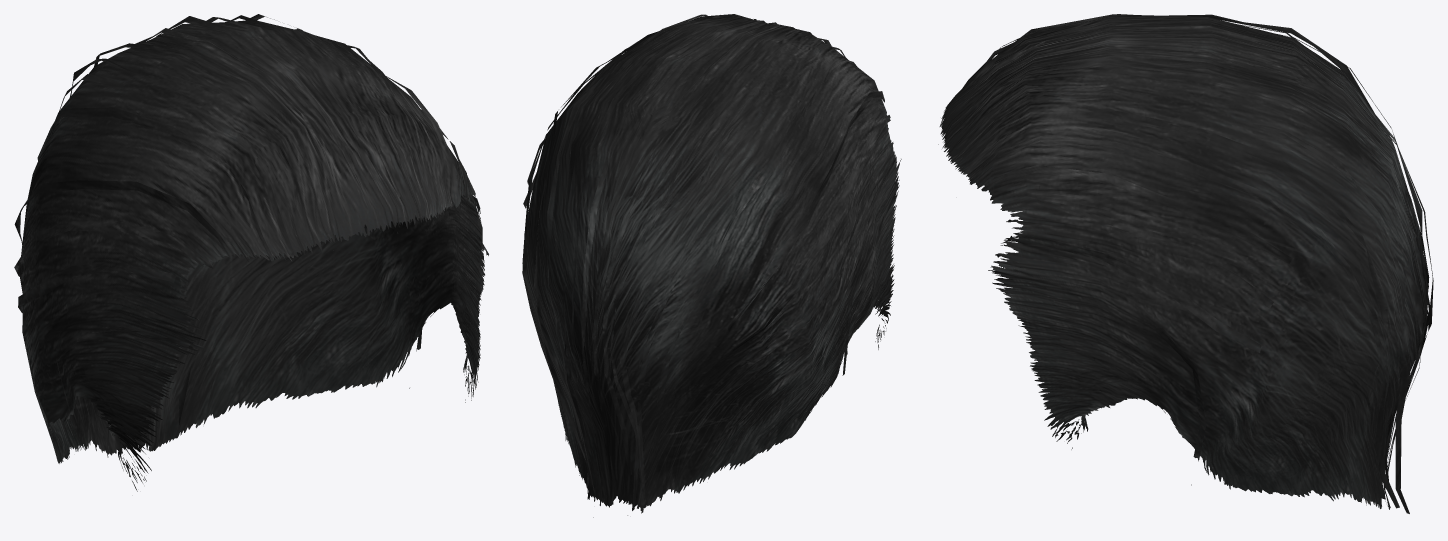
The model's file is makehuman-hair.glb.
The picture shows the model from 3 angles, left to right: view 1: azimuth 30°, elevation 25°; view 2: azimuth 150°, elevation 25°; view 3: azimuth 270°, elevation 25°; orthographic projection. The views are drawn at different scales.
Visible parts, largest first — view 1: Hair_short04; view 2: Hair_short04; view 3: Hair_short04.
Boxes of the visible parts, <box> form: Hair_short04: <box>14,14,488,491</box>; Hair_short04: <box>522,14,901,517</box>; Hair_short04: <box>938,14,1433,513</box>.
Bounding box in the file's own units: 0.1757 × 0.2213 × 0.2074.
1 material, 1 textured.
